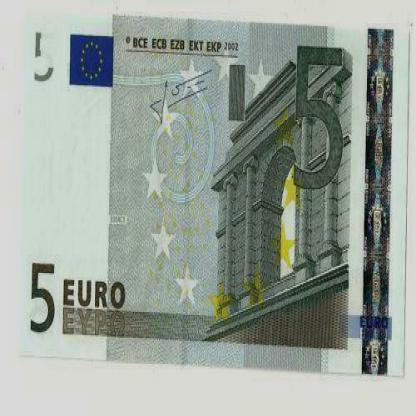euro_banknote: (14, 22, 409, 367)
